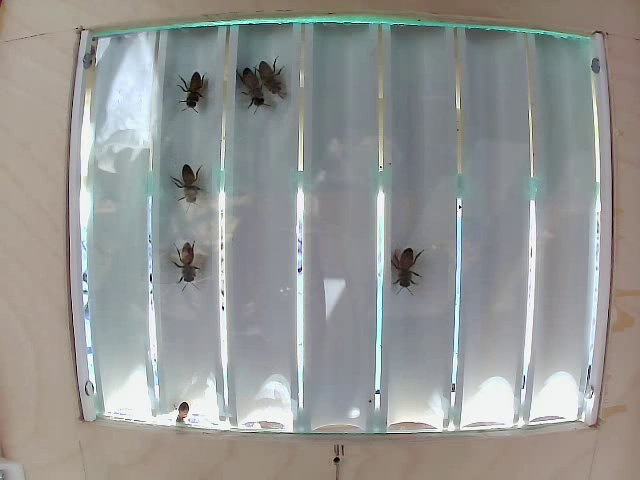bee: (390, 236, 429, 306), (173, 74, 221, 129), (169, 166, 213, 215), (169, 239, 206, 295), (254, 59, 292, 112), (240, 62, 266, 121)
